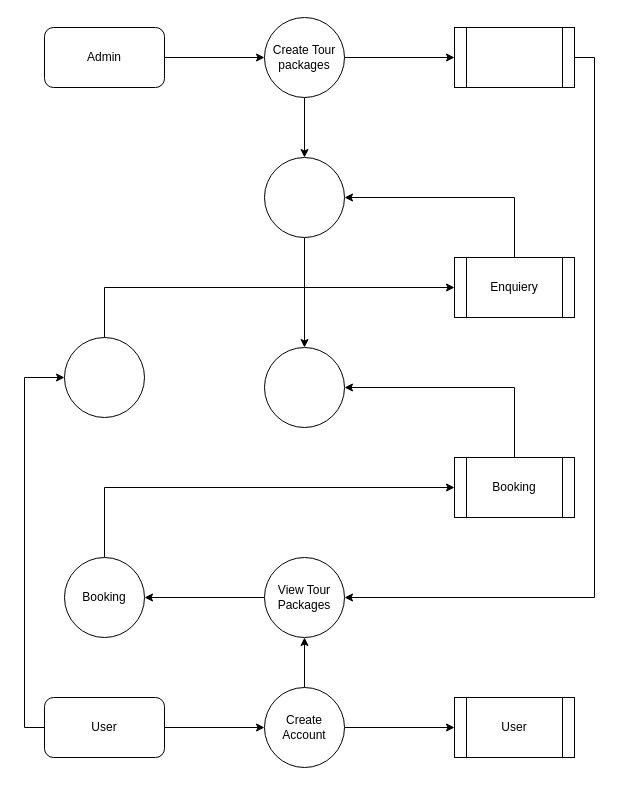
Image size: 620x785. Some labels were removed from this diagram. Here are the shapes that lost their labels. From the top down, the centre of each, then its label:
point 514,57: Package
point 304,197: View Enquiery
point 104,377: Register Enquiery
point 304,387: View Booking Details
